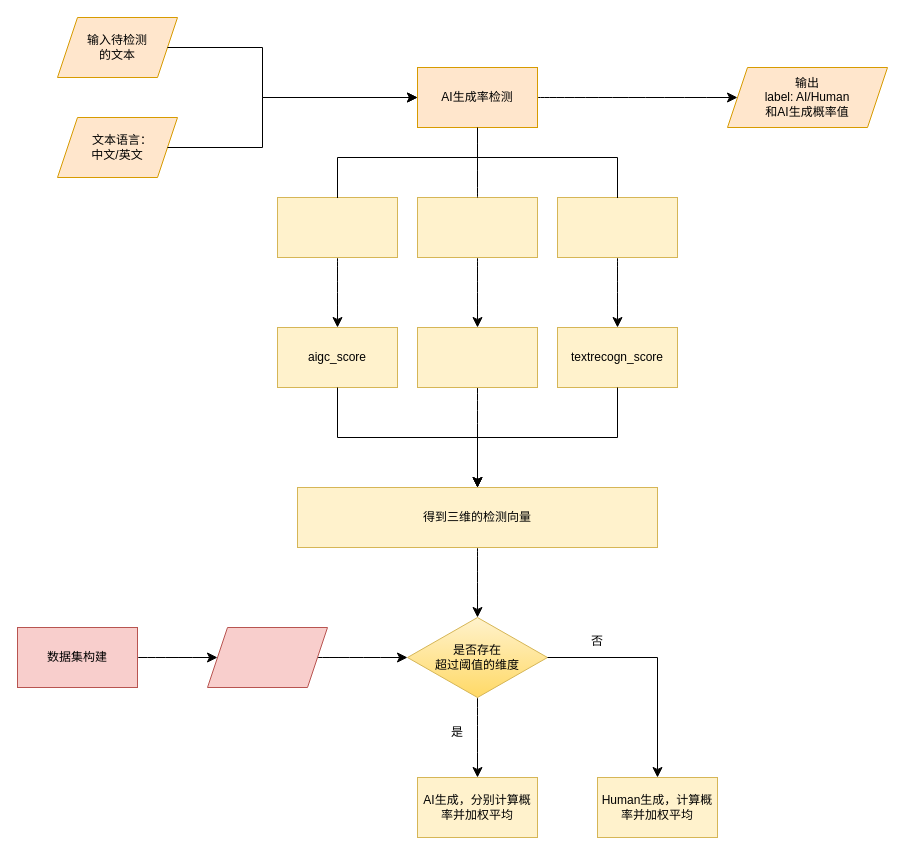
The diagram is 905 pixels wide and 855 high, and some of its shapes have lost their labels. Here are the shapes that lost their labels. From the top down, the centre of each, then its label:
At point (337, 227): "AIGC模型".
At point (477, 227): "Desklib模型".
At point (617, 227): "TextRecog模型".
At point (477, 357): "desklib_score".
At point (267, 657): "训练得到 的阈值向量".
